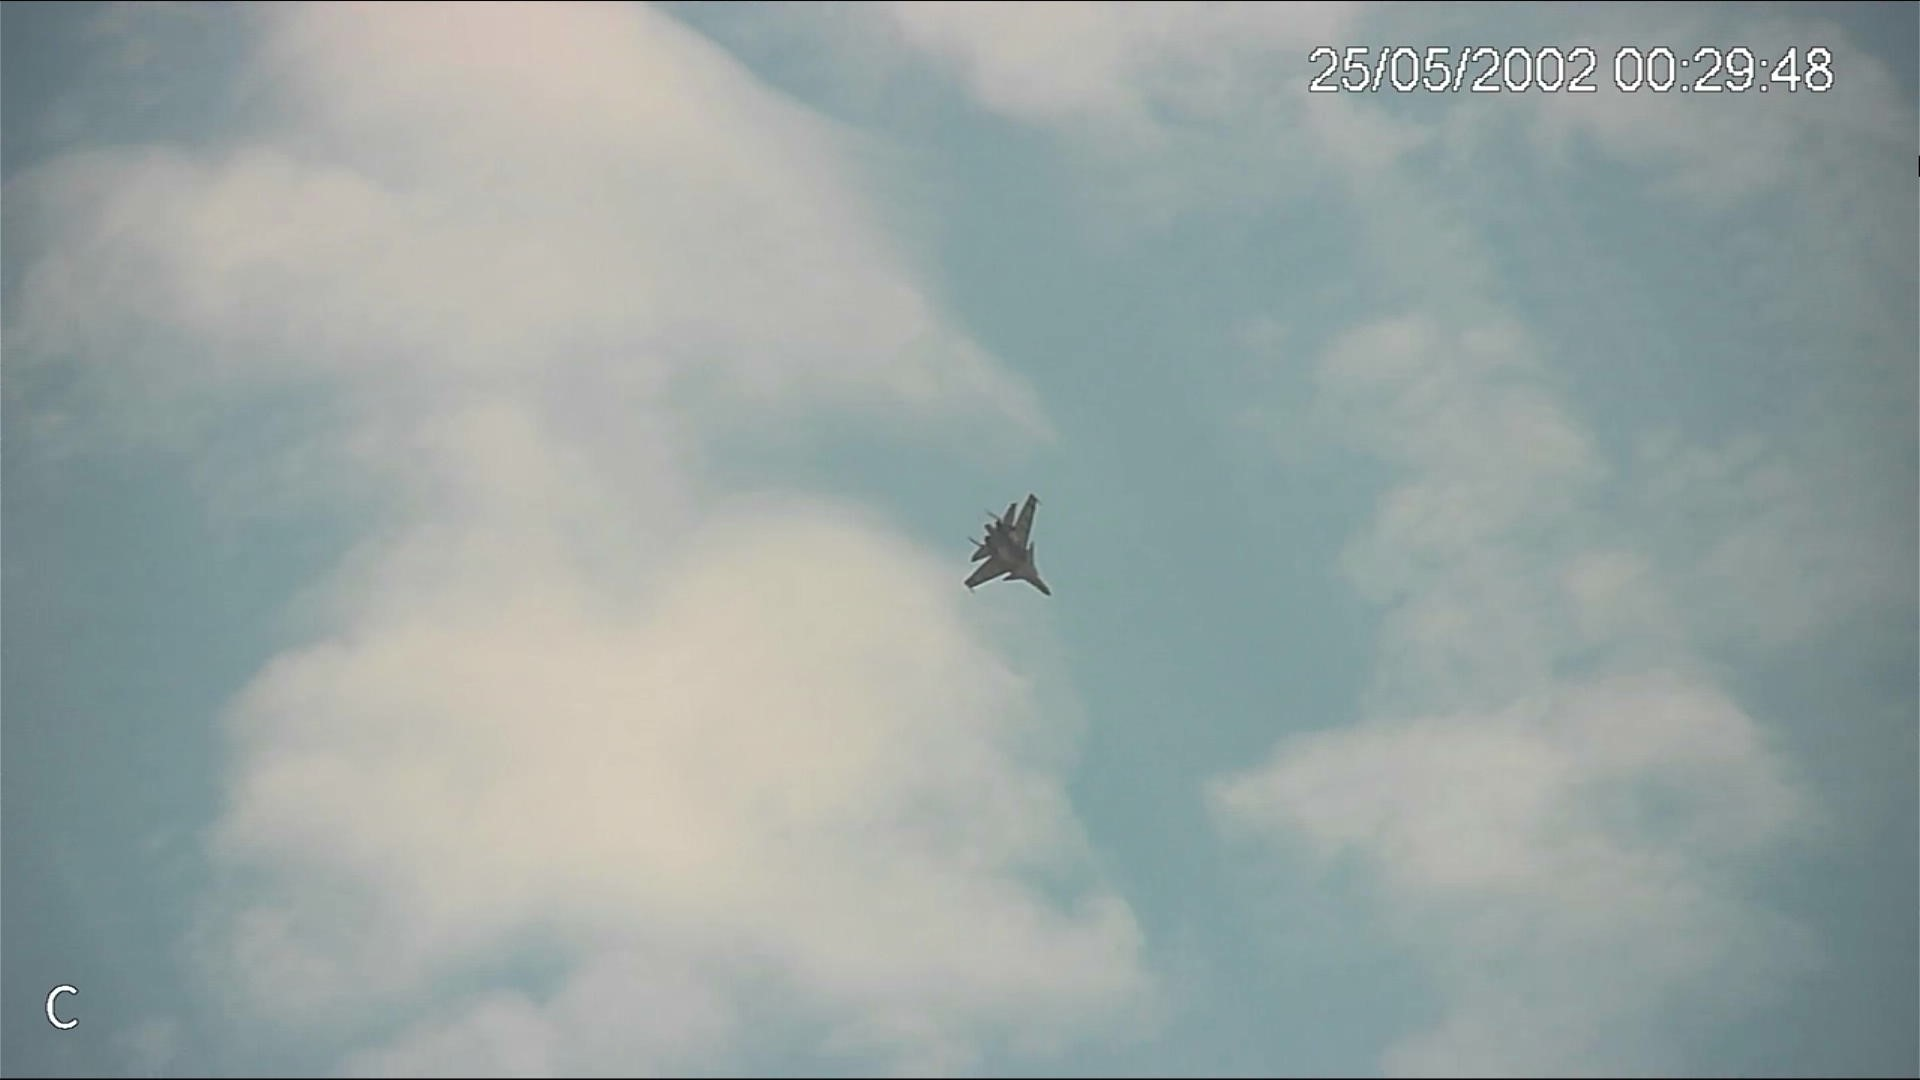SU_30: (953, 495, 1058, 603)
